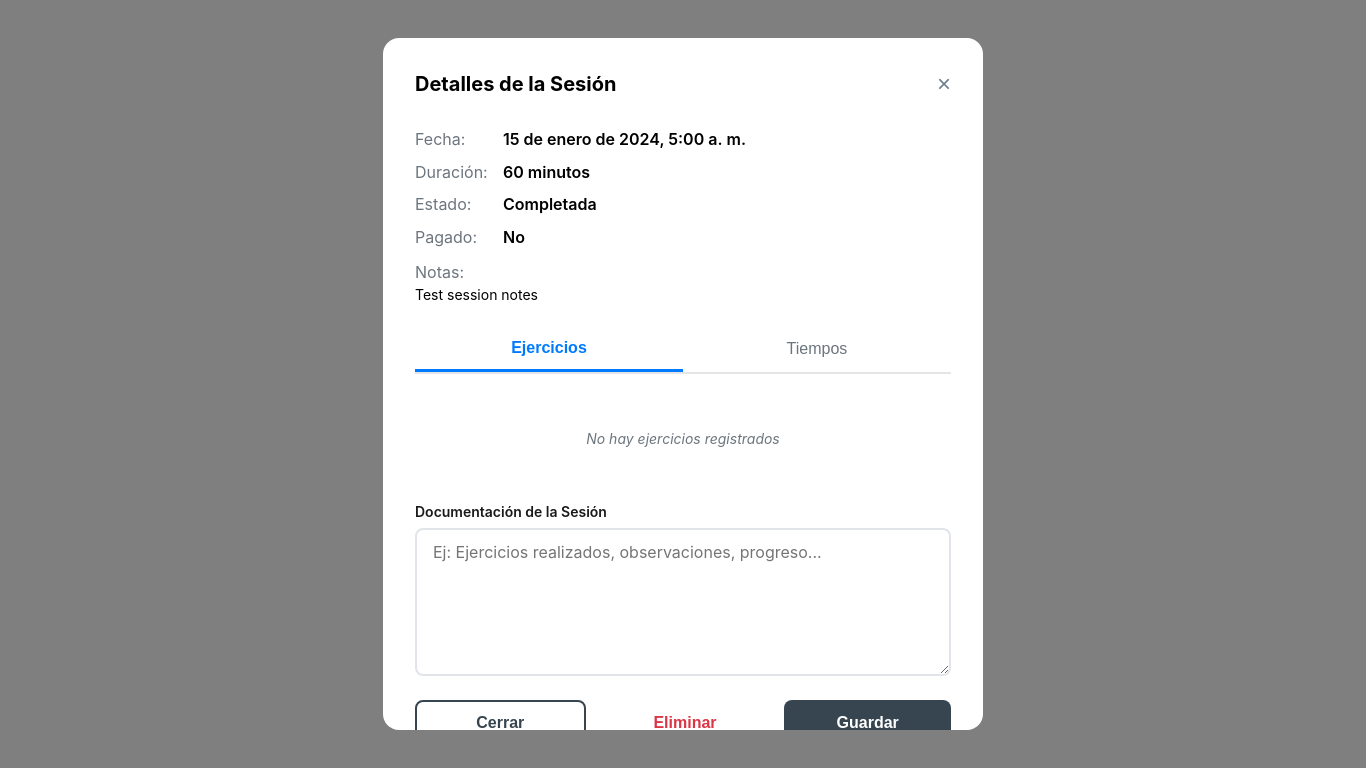
Test: SessionDetailModal › should display table headers correctly
# Click on Tiempos tab
Click the button "Tiempos". click: (817, 349)
box: [683,326,951,372]
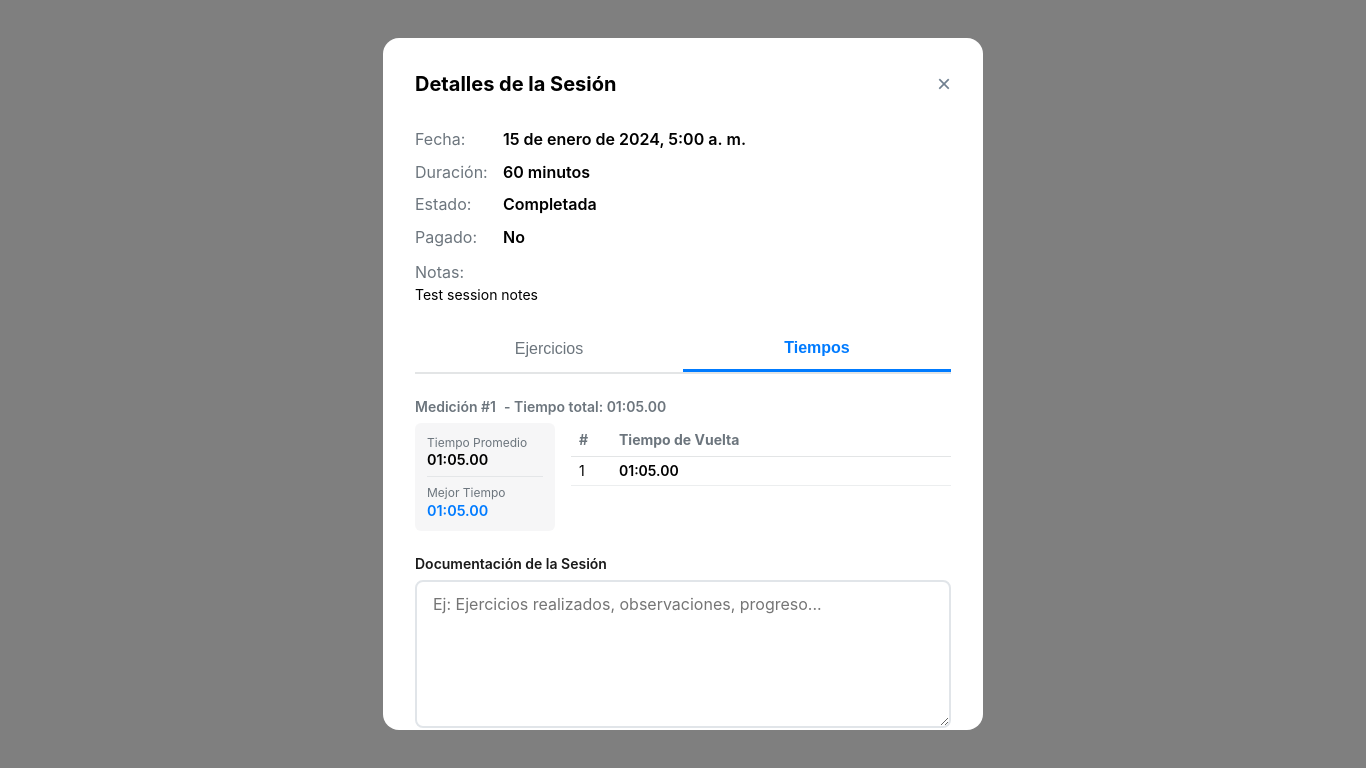
Expected: the column heading "#" is shown, [571,422,611,456]
Expected: the column heading "Tiempo de Vuelta" is shown, [611,422,951,456]
